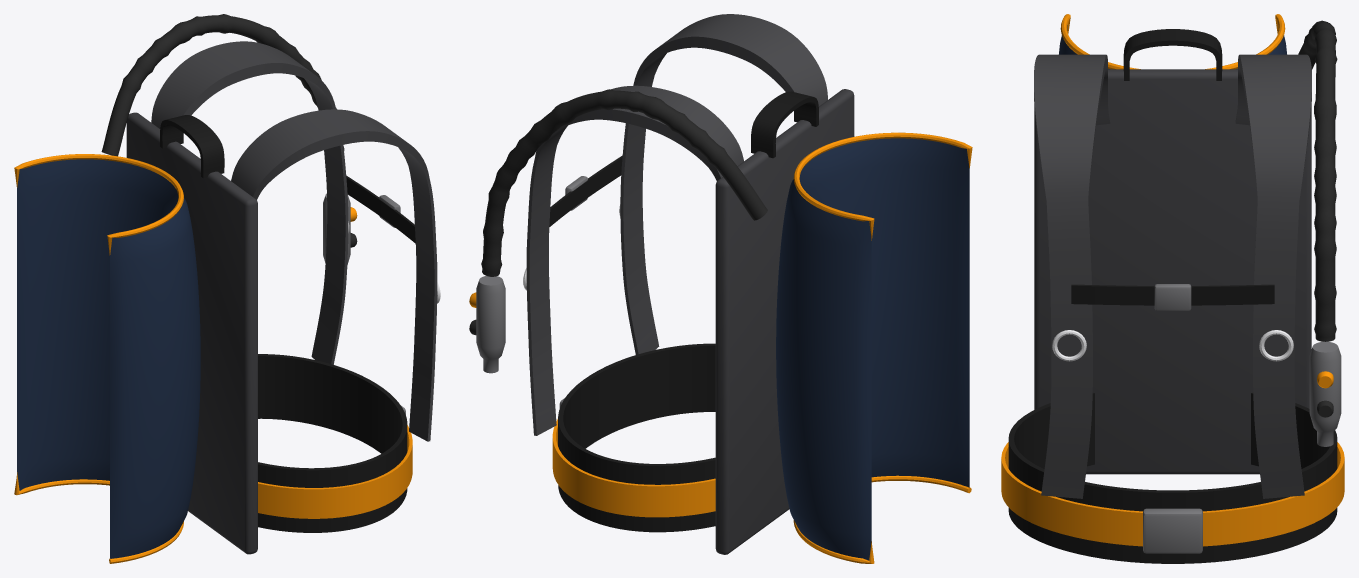
The model's file is SM_BCD.fbx.
3 renders of one model, left to right at view 1: azimuth 30°, elevation 25°; view 2: azimuth 150°, elevation 25°; view 3: azimuth 270°, elevation 25°, orthographic. The views are drawn at different scales.
Parts seen in each view (by area): view 1: SM_BCD; view 2: SM_BCD; view 3: SM_BCD.
Boxes of the visible parts, x1=… form: SM_BCD: x1=14, y1=14, x2=440, y2=563; SM_BCD: x1=469, y1=14, x2=972, y2=563; SM_BCD: x1=1001, y1=14, x2=1344, y2=563.
Bounding box in the file's own units: 0.5107 × 0.5774 × 0.3715.
